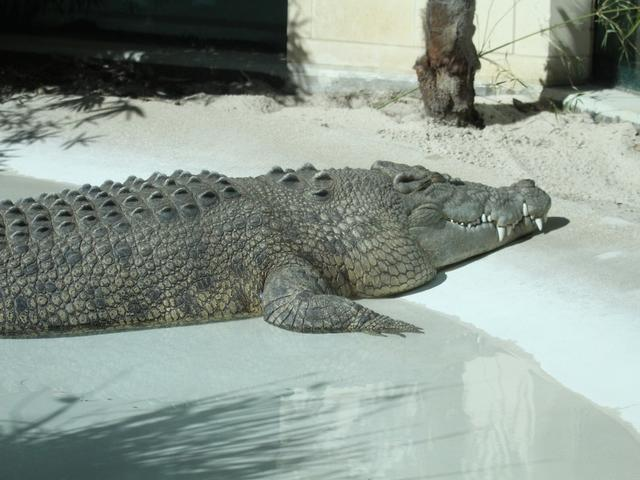crocodile: (8, 118, 576, 407)
